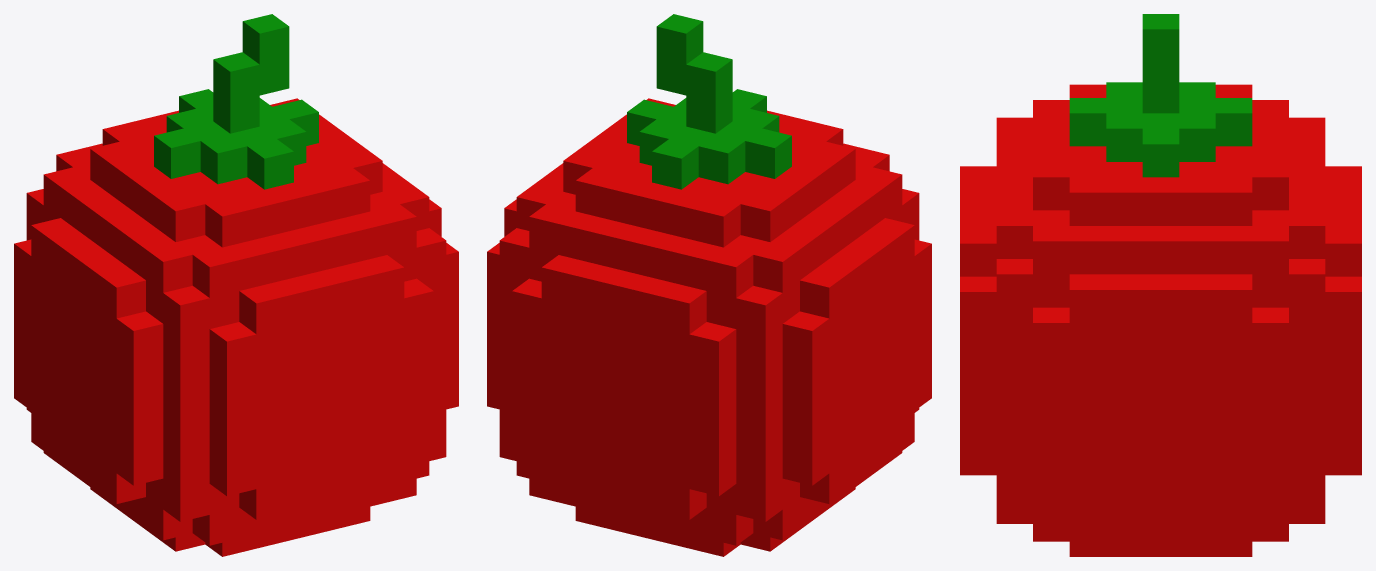
The model's file is food.glb.
The picture shows the model from 3 angles, left to right: view 1: azimuth 30°, elevation 25°; view 2: azimuth 150°, elevation 25°; view 3: azimuth 270°, elevation 25°; orthographic projection. The views are drawn at different scales.
Parts seen in each view (by area): view 1: Untitled; view 2: Untitled; view 3: Untitled.
Boxes of the visible parts, box(x1,y1,x2,y2) form: Untitled: box(14, 14, 458, 556); Untitled: box(487, 14, 931, 556); Untitled: box(960, 14, 1361, 556).
Size of the model in its own units: 1.1 by 1.5 by 1.1.
Materials: 1 (1 with a texture image).
